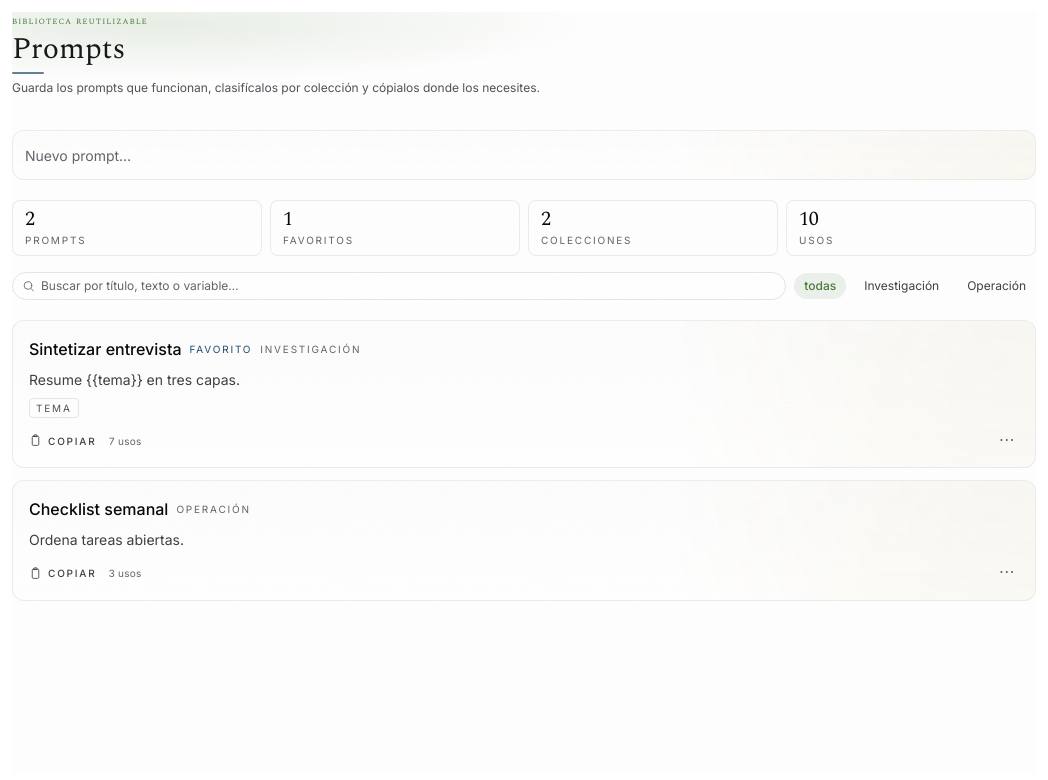
Test: <PromptsView /> › muestra métricas y filtra por colección
Expected: the heading "Sintetizar entrevista" is shown, [29,336,182,360]
Expected: the heading "Checklist semanal" is shown, [29,497,168,521]
Click the button "Investigación".
click(902, 286)  # box [854,272,949,298]
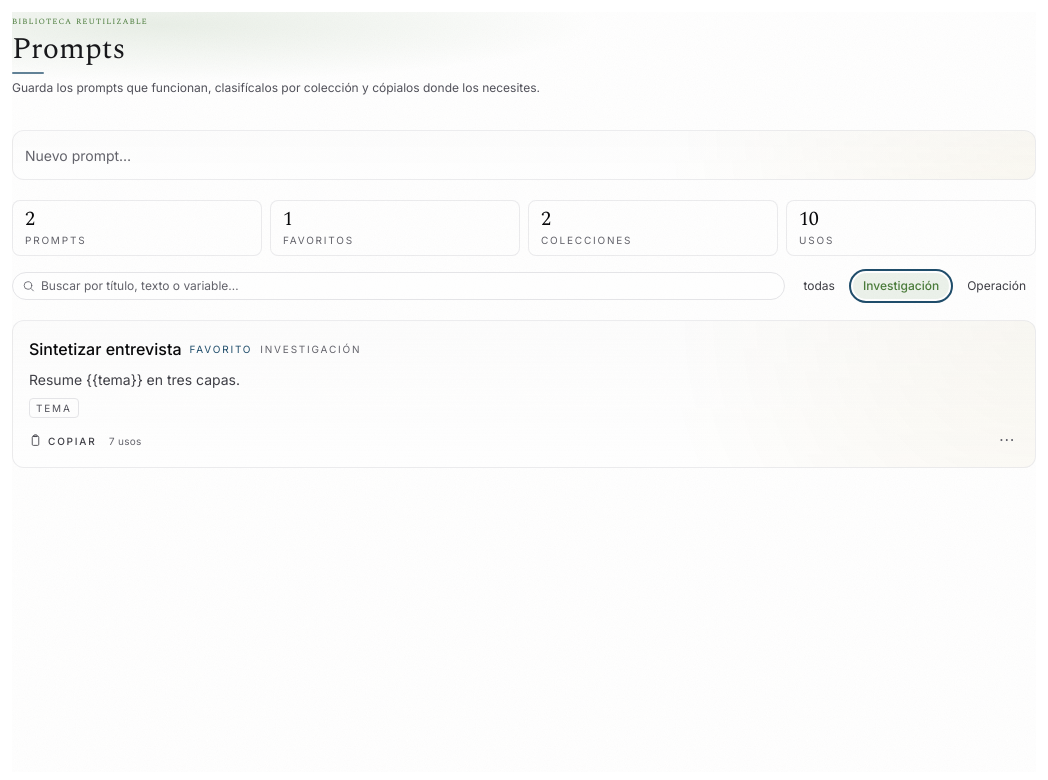
Expected: the heading "Sintetizar entrevista" is shown, [29,336,182,360]
Now the heading "Checklist semanal" is gone
